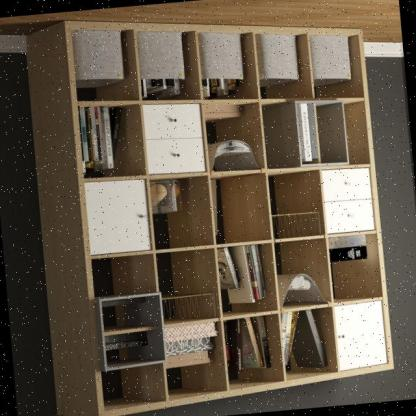Shelf: (17, 0, 396, 416)
